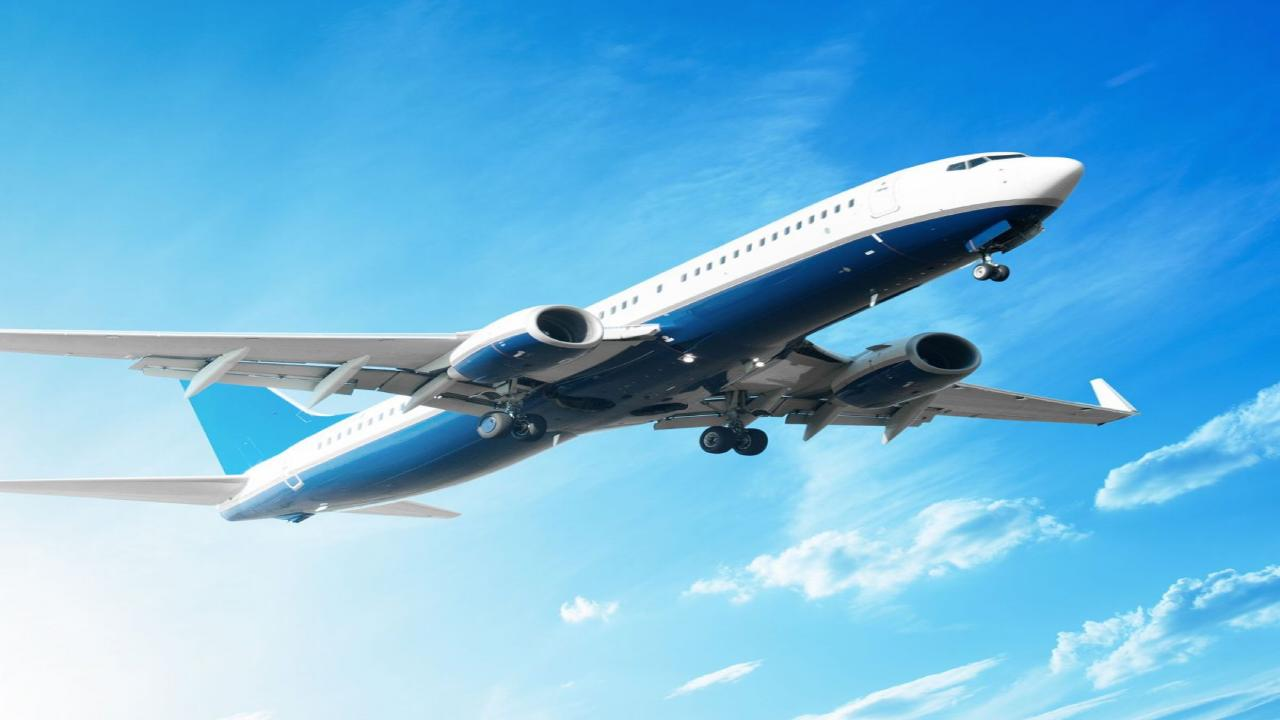Airplane: (0, 134, 1164, 543)
